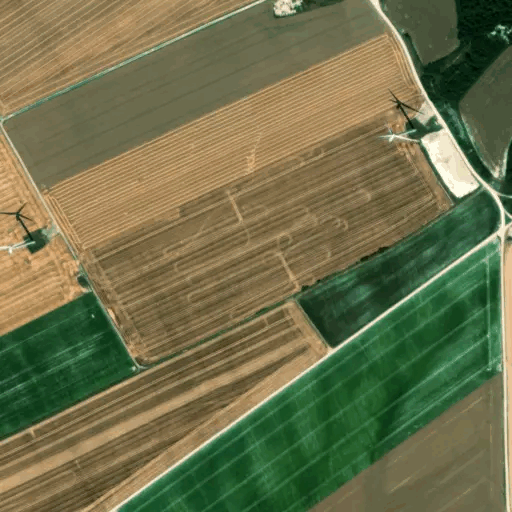wt: (371, 86, 430, 151), (1, 199, 39, 261)
